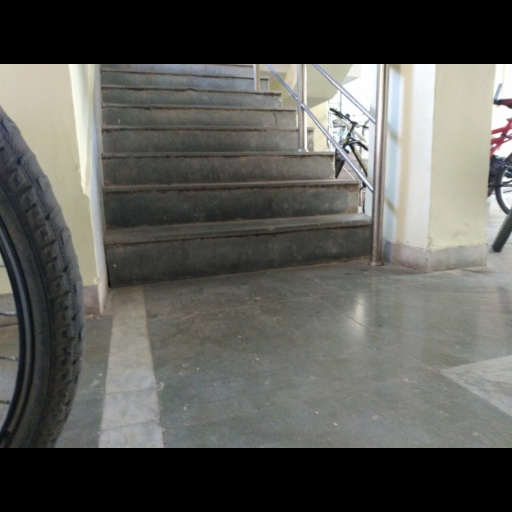Stairs: (103, 64, 374, 278)
